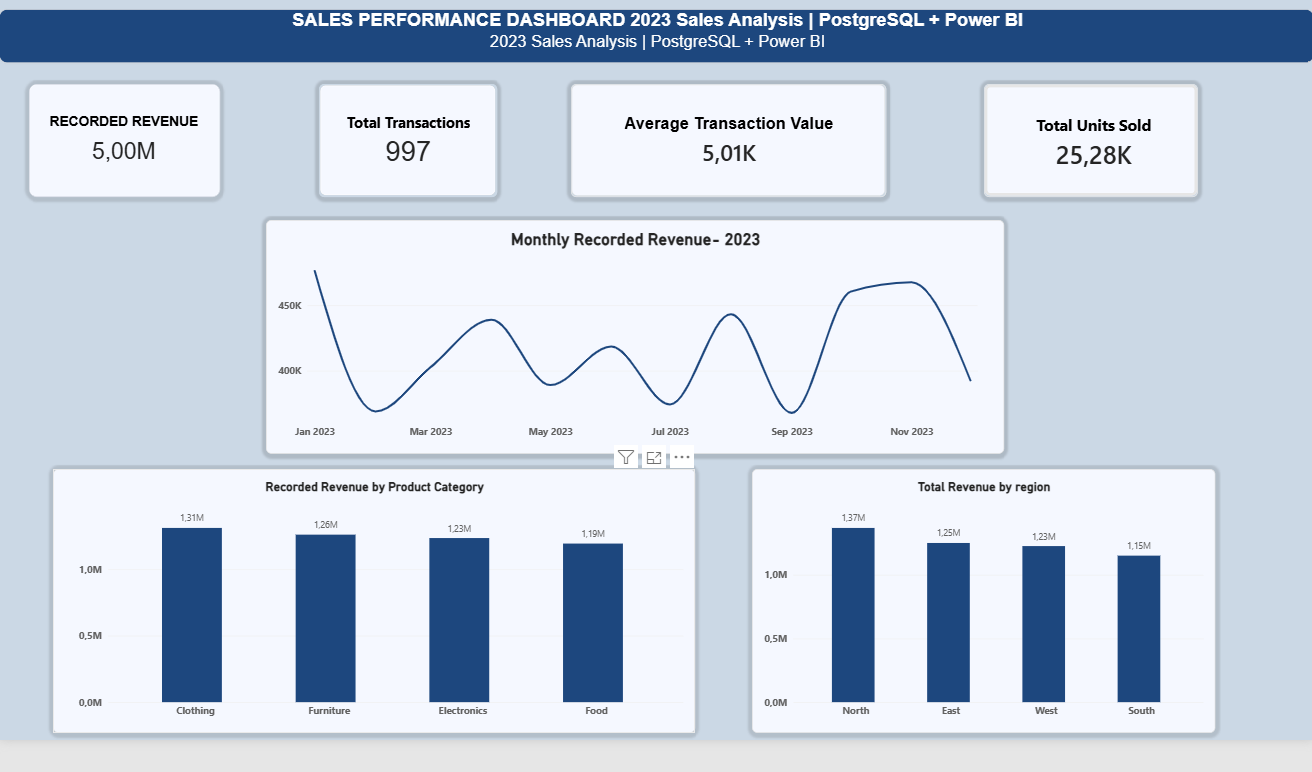

The page's visual inventory and layout, read from the dashboard file:
{"tool":"powerbi","page":{"name":"executive overview","canvas":[1920,1080],"ordinal":0},"visuals":[{"type":"cardVisual","fields":{"Data":["public sales_dashboard.Total Revenue"]},"box":[43.8,122.6,278.7,164.9],"z":0},{"type":"cardVisual","fields":{"Data":["public sales_dashboard.Total Transactions"]},"box":[466.9,122.6,259.7,164.9],"z":1000},{"type":"cardVisual","fields":{"Data":["public sales_dashboard.Total Units Sold"]},"box":[1437.1,122.6,312.2,164.9],"z":2000},{"type":"cardVisual","fields":{"Data":["public sales_dashboard.Average Transaction Value"]},"box":[834.5,122.6,459.6,164.9],"z":3000},{"type":"lineChart","title":"Monthly Recorded Revenue- 2023","fields":{"Category":["public sales_dashboard.sale_month.Variation.Date Hierarchy.Year","public sales_dashboard.sale_month.Variation.Date Hierarchy.Quarter","public sales_dashboard.sale_month.Variation.Date Hierarchy.Month","public sales_dashboard.sale_month.Variation.Date Hierarchy.Day"],"Y":["public sales_dashboard.Total Revenue"]},"box":[389.5,321,1076.7,341.4],"z":4000},{"type":"clusteredColumnChart","title":"Recorded Revenue by Product Category","fields":{"Category":["public sales_dashboard.product_category"],"Y":["public sales_dashboard.Total Revenue"]},"box":[78.8,684.3,936.7,385.2],"z":5000},{"type":"clusteredColumnChart","fields":{"Category":["public sales_dashboard.region"],"Y":["public sales_dashboard.Total Revenue"]},"box":[1098.6,684.3,675.5,385.2],"z":6000},{"type":"textbox","title":"SALES PERFORMANCE DASHBOARD              2023 Sales Analysis | PostgreSQL + Power BI","box":[0,13.1,1920,78.8],"z":7000}]}

Visuals, with their boxes on the page's 1920x1080 design canvas (x1, y1, x2, y2). These are canvas units, not pixel positions in the 1312x772 screenshot, which may show the page scaled, cropped or inside an application window:
cardVisual - public sales_dashboard.Total Revenue: [44, 123, 322, 288]
cardVisual - public sales_dashboard.Total Transactions: [467, 123, 727, 288]
cardVisual - public sales_dashboard.Total Units Sold: [1437, 123, 1749, 288]
cardVisual - public sales_dashboard.Average Transaction Value: [834, 123, 1294, 288]
"Monthly Recorded Revenue- 2023" lineChart: [390, 321, 1466, 662]
"Recorded Revenue by Product Category" clusteredColumnChart: [79, 684, 1016, 1070]
clusteredColumnChart - public sales_dashboard.region x public sales_dashboard.Total Revenue: [1099, 684, 1774, 1070]
"SALES PERFORMANCE DASHBOARD              2023 Sales Analysis | PostgreSQL + Power BI" textbox: [0, 13, 1920, 92]
